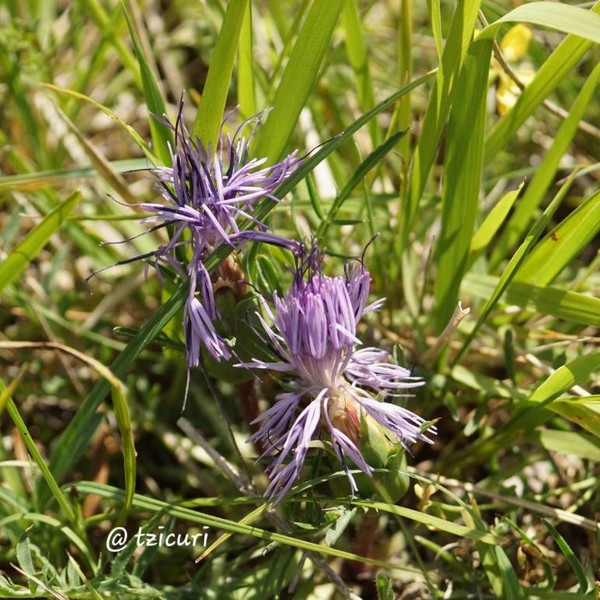obstacle: (102, 61, 482, 580)
